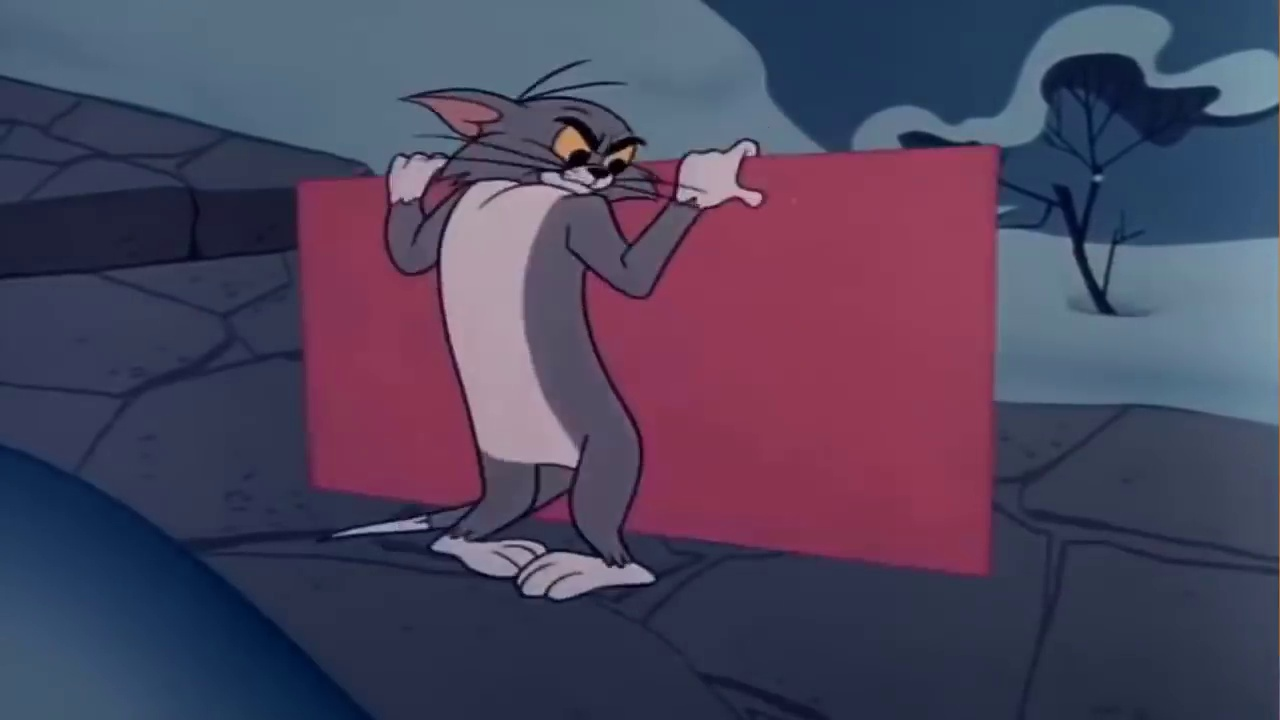face: (532, 111, 646, 200)
